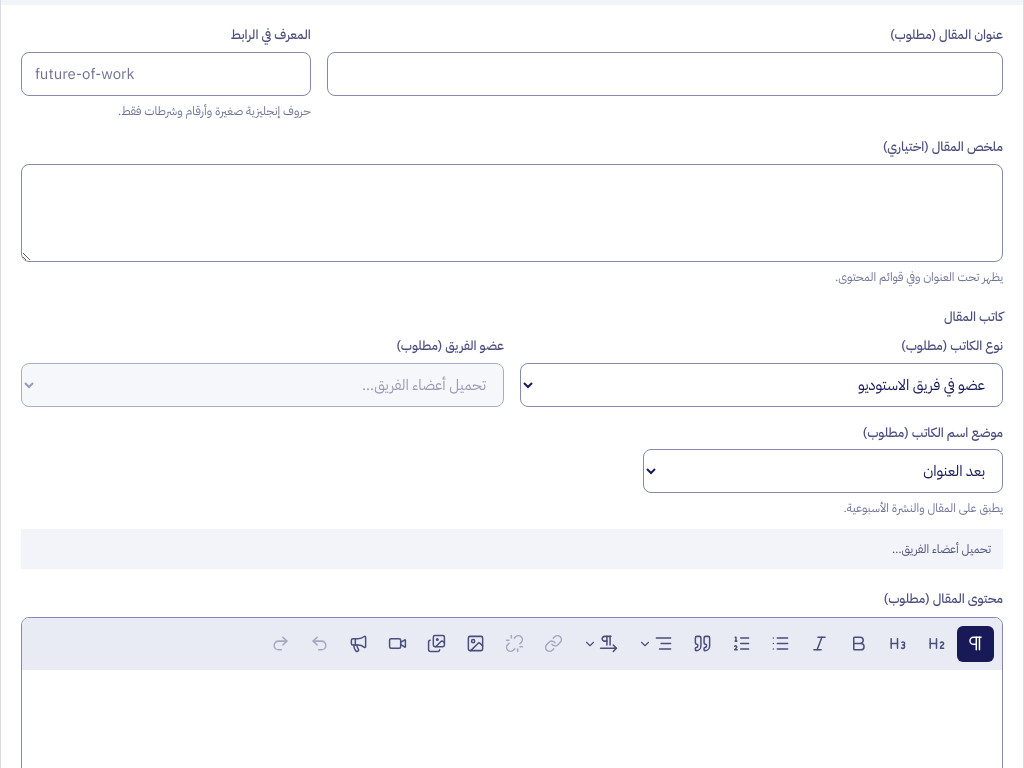
Test case: ArticleEditorView › shows a clear loading state without blocking the custom-author choice
(page scrolled)
Expected: the dropdown labelled "عضو الفريق (مطلوب)" is disabled, x1=21 y1=363 x2=504 y2=407
Select "كاتب آخر" in the dropdown labelled "نوع الكاتب (مطلوب)" at (762, 385), box x1=520 y1=363 x2=1003 y2=407
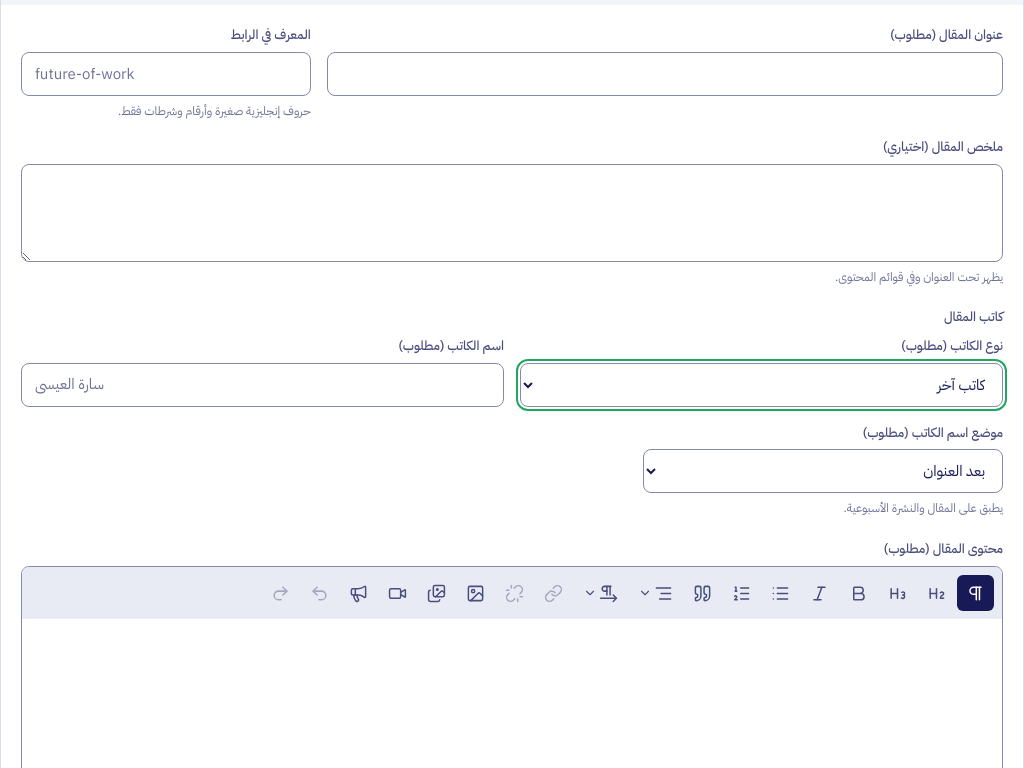
Expected: the field labelled "اسم الكاتب (مطلوب)" is enabled, x1=21 y1=363 x2=504 y2=407
